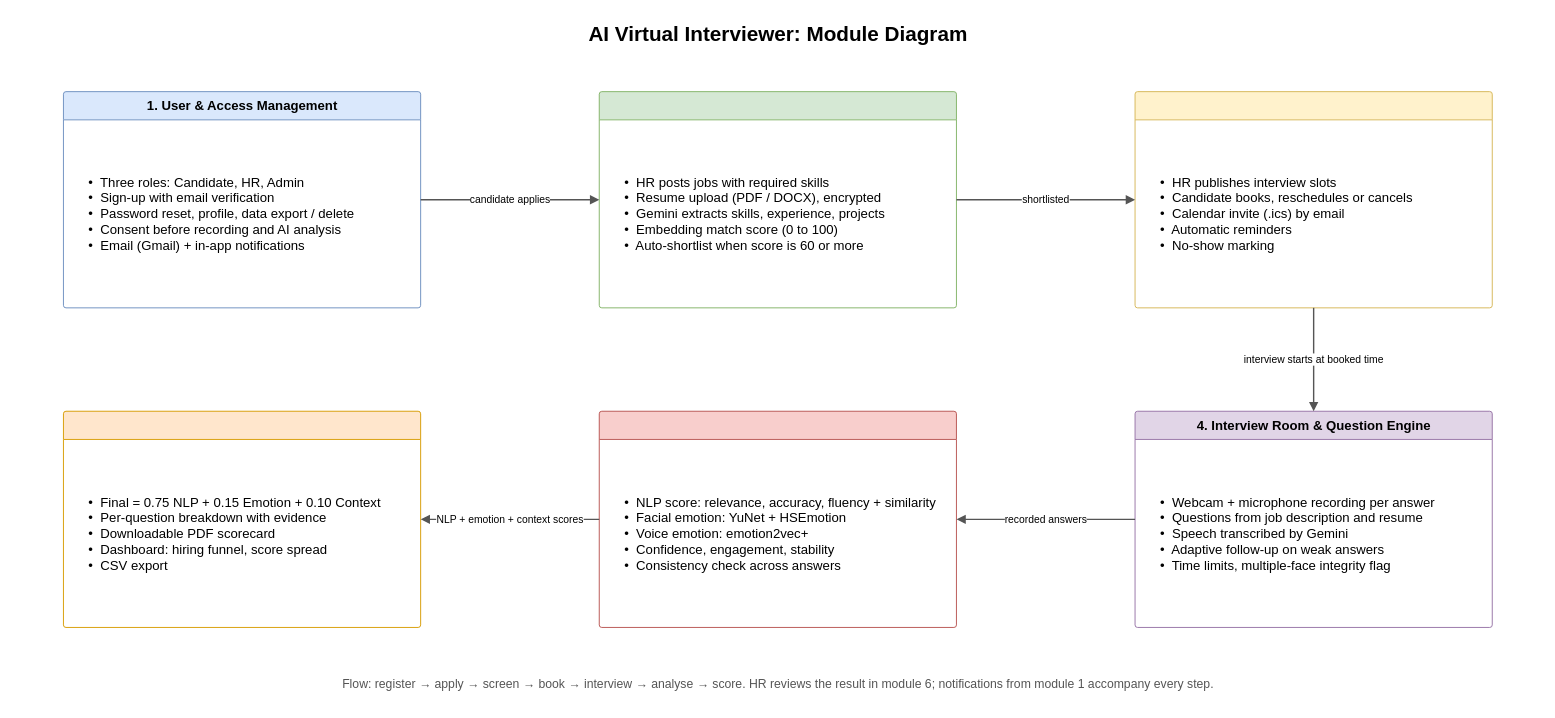
The diagram is 1555 pixels wide and 718 high, and some of its shapes have lost their labels. Here are the shapes that lost their labels. From the top down, the box of each, then its label:
(598, 91, 956, 308): 2. Job & Resume Screening
(1134, 91, 1492, 308): 3. Interview Scheduling
(63, 410, 421, 627): 6. Scorecard & HR Analytics
(598, 410, 956, 627): 5. Answer & Emotion Analysis
